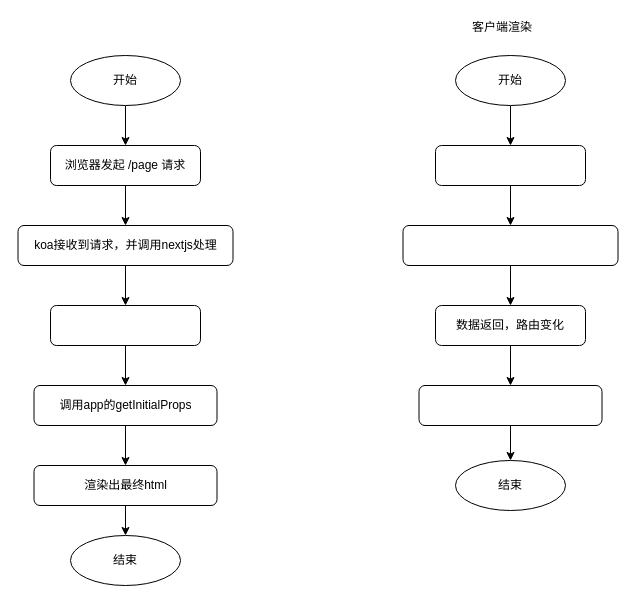
The diagram is 635 pixels wide and 603 high, and some of its shapes have lost their labels. Here are the shapes that lost their labels. From the top down, the centre of each, then its label:
At point (510, 165): "点击链接按钮".
At point (510, 245): "调用页面getInitialProps".
At point (125, 325): "nextjs开始渲染".
At point (510, 405): "渲染新的页面".
